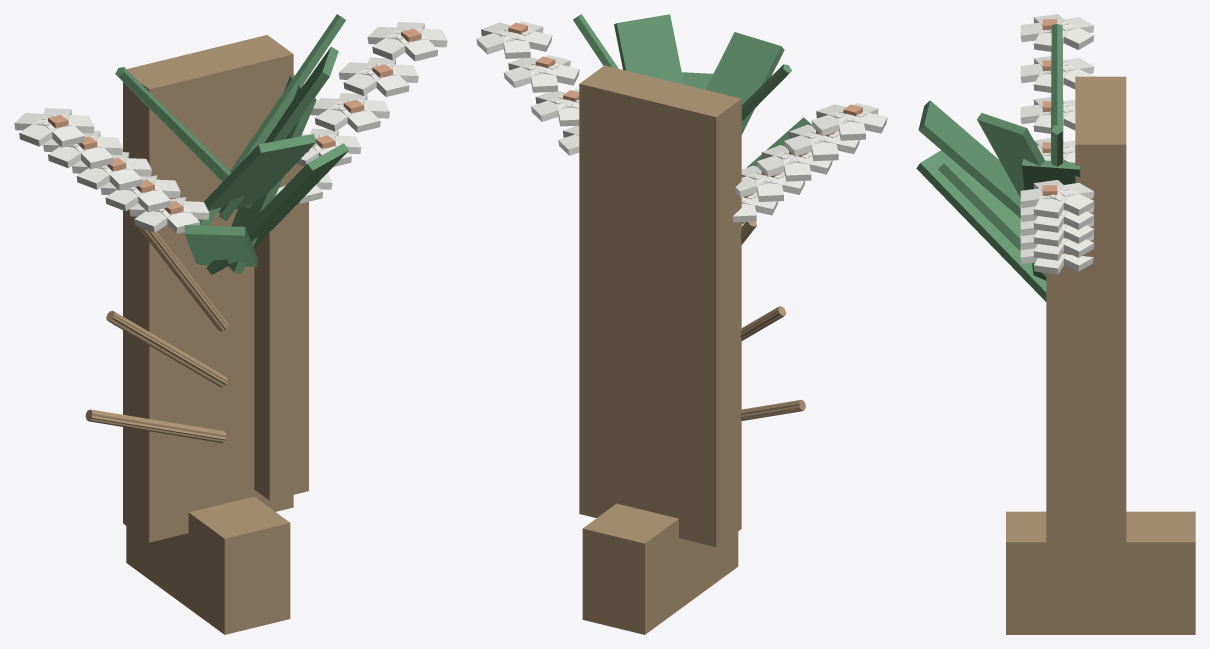
Rendered from botanical-glasshouse-and-palm-house-botanical-glasshou-4b1f1c84__38583.glb.
3 renders of one model, left to right at view 1: azimuth 30°, elevation 25°; view 2: azimuth 150°, elevation 25°; view 3: azimuth 270°, elevation 25°, orthographic. The views are drawn at different scales.
Parts seen in each view (by area): view 1: botanical-glasshouse-and-palm-house-orchid-on-mount; view 2: botanical-glasshouse-and-palm-house-orchid-on-mount; view 3: botanical-glasshouse-and-palm-house-orchid-on-mount.
Part boxes in pixels (x1,y1,x2,y2): botanical-glasshouse-and-palm-house-orchid-on-mount: (14,14,447,634); botanical-glasshouse-and-palm-house-orchid-on-mount: (476,14,887,634); botanical-glasshouse-and-palm-house-orchid-on-mount: (916,14,1195,634).
Bounding box in the file's own units: 0.6444 × 0.8252 × 0.3833.
